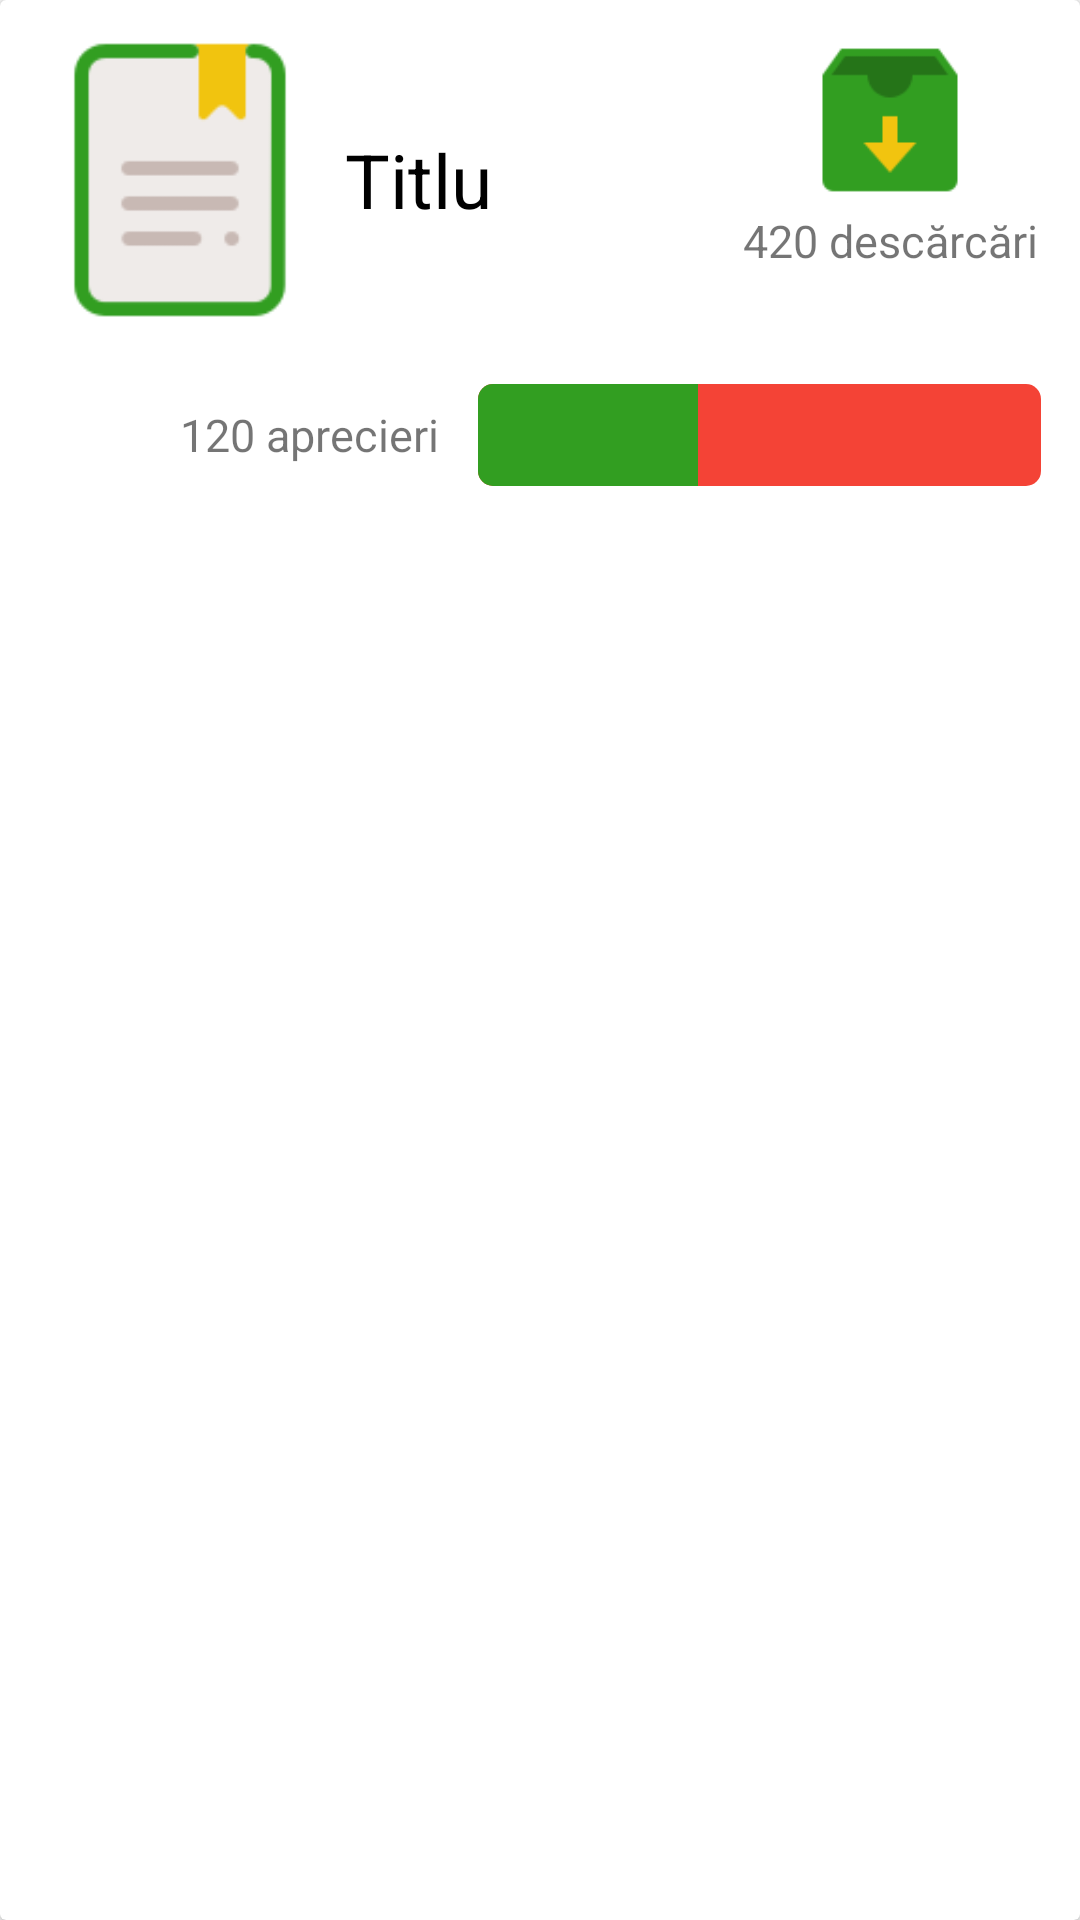

Named icons in this screenshot (1080px×1920px) and their bounding boxes, (x1, y1, x2, y2):
eseutip: (73, 43, 287, 317)
